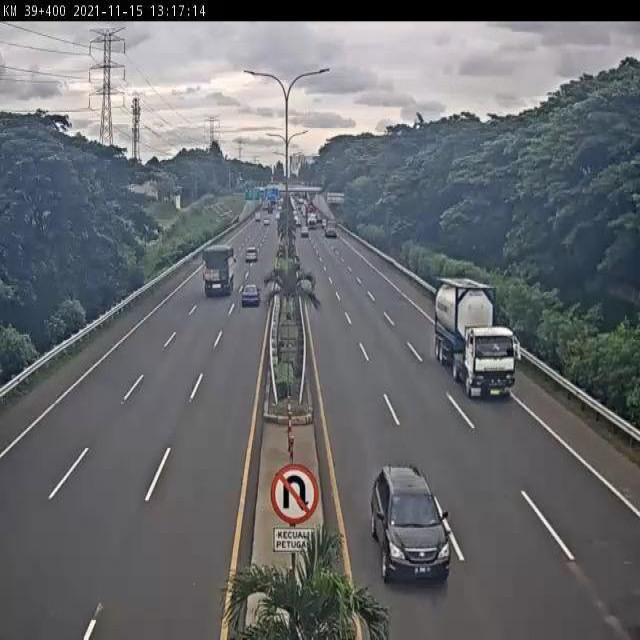car: (370, 463, 453, 584), (239, 280, 262, 309), (242, 244, 261, 265)
truck-l-: (200, 240, 238, 299)
truck-xl-: (432, 273, 519, 400)
